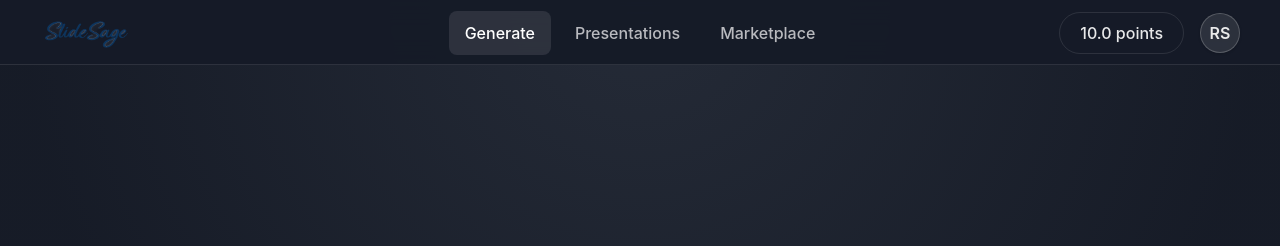
Test: Header › links to settings from the account menu
The width and height of the screenshot is (1280, 246).
Press the mouse on the button with aria-label "Open account menu" at (1220, 33), box [1200,13,1240,53]
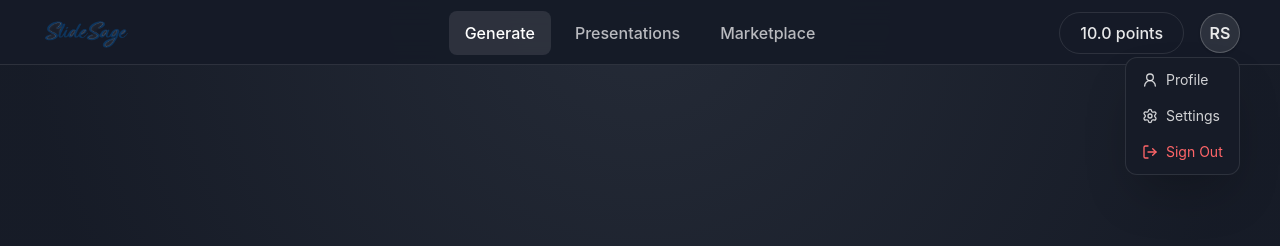
Result: the icon next to "Profile" is shown at [1142,72,1158,88]
Result: the icon next to "Settings" is shown at [1142,108,1158,124]
Result: the icon next to "Sign Out" is shown at [1142,144,1158,160]
